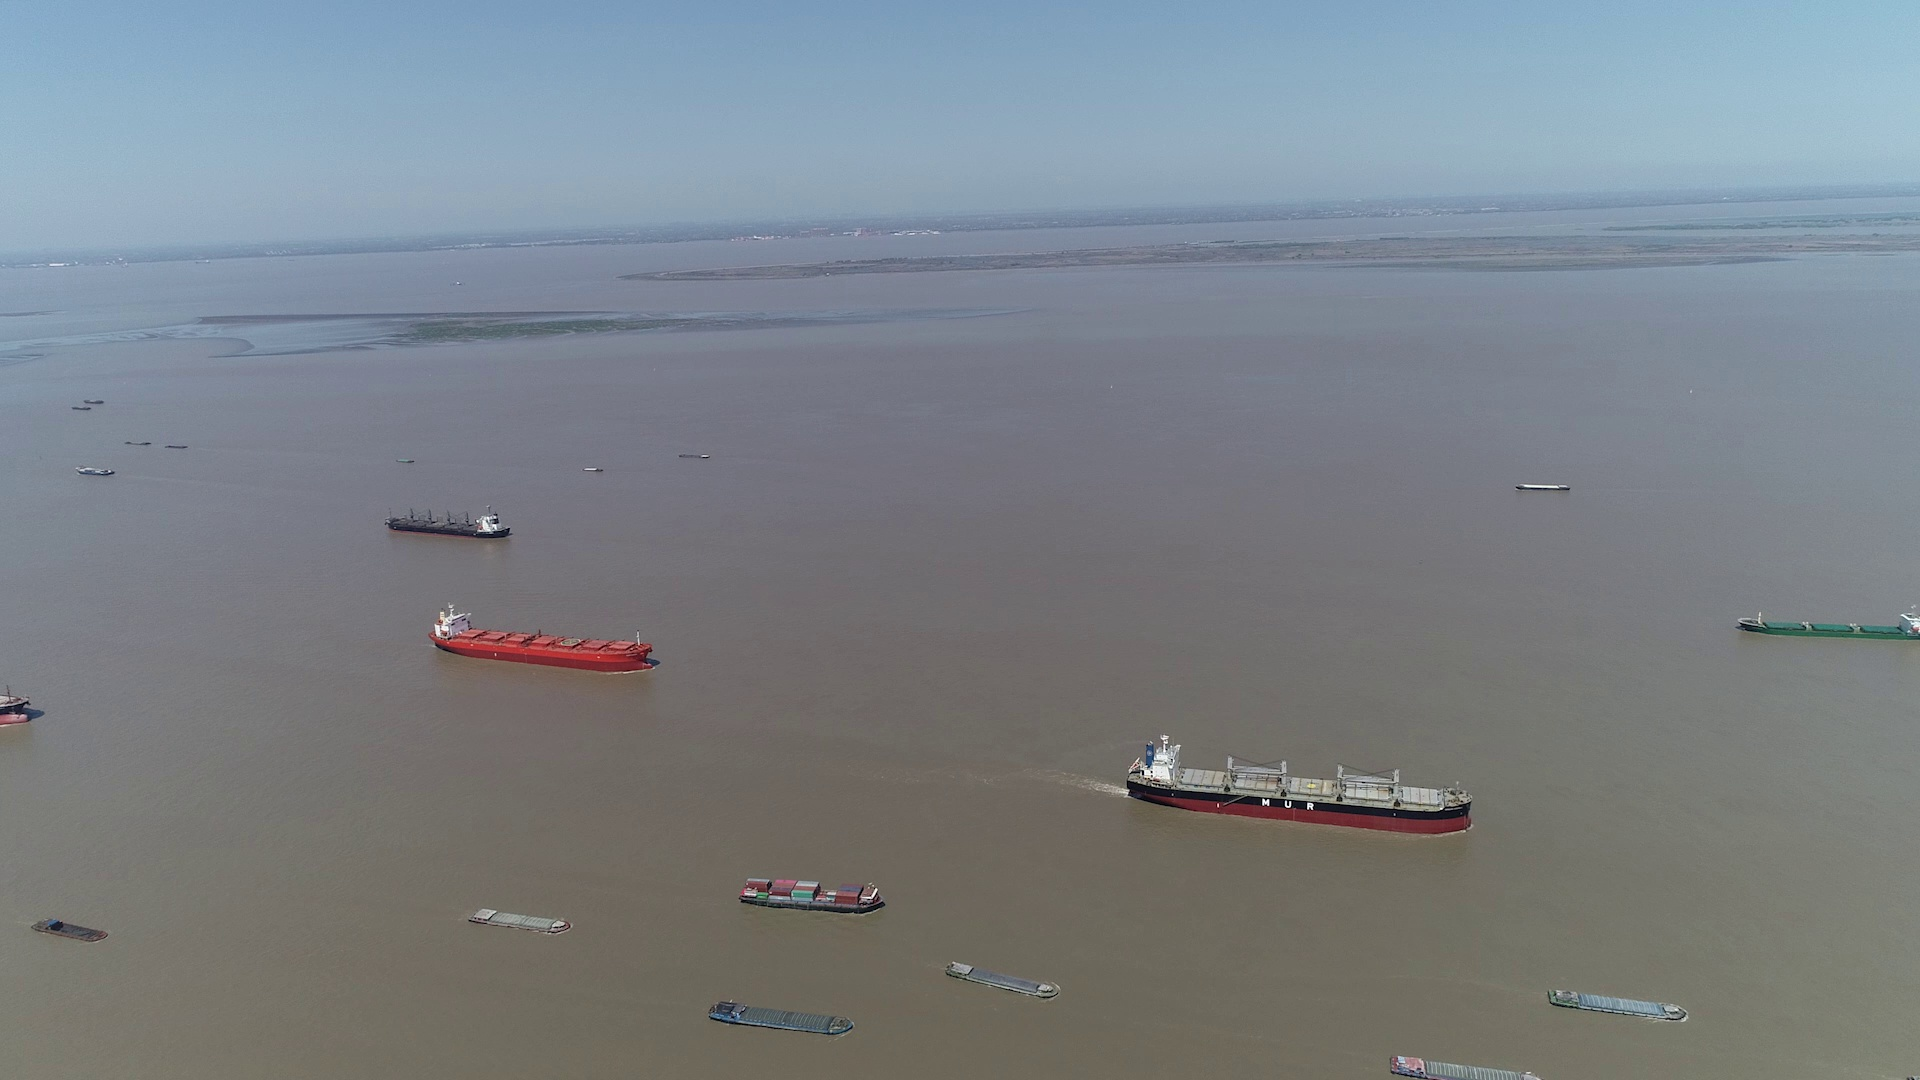ship: (1129, 738, 1472, 833), (430, 603, 654, 673), (737, 877, 885, 915), (704, 1000, 855, 1036), (1741, 609, 1920, 640), (1548, 986, 1688, 1025), (948, 960, 1056, 1000), (386, 505, 513, 537), (1393, 1055, 1539, 1080), (465, 906, 568, 934), (0, 680, 38, 729), (36, 916, 105, 940), (1513, 483, 1568, 493), (76, 465, 113, 476), (680, 452, 711, 459)
